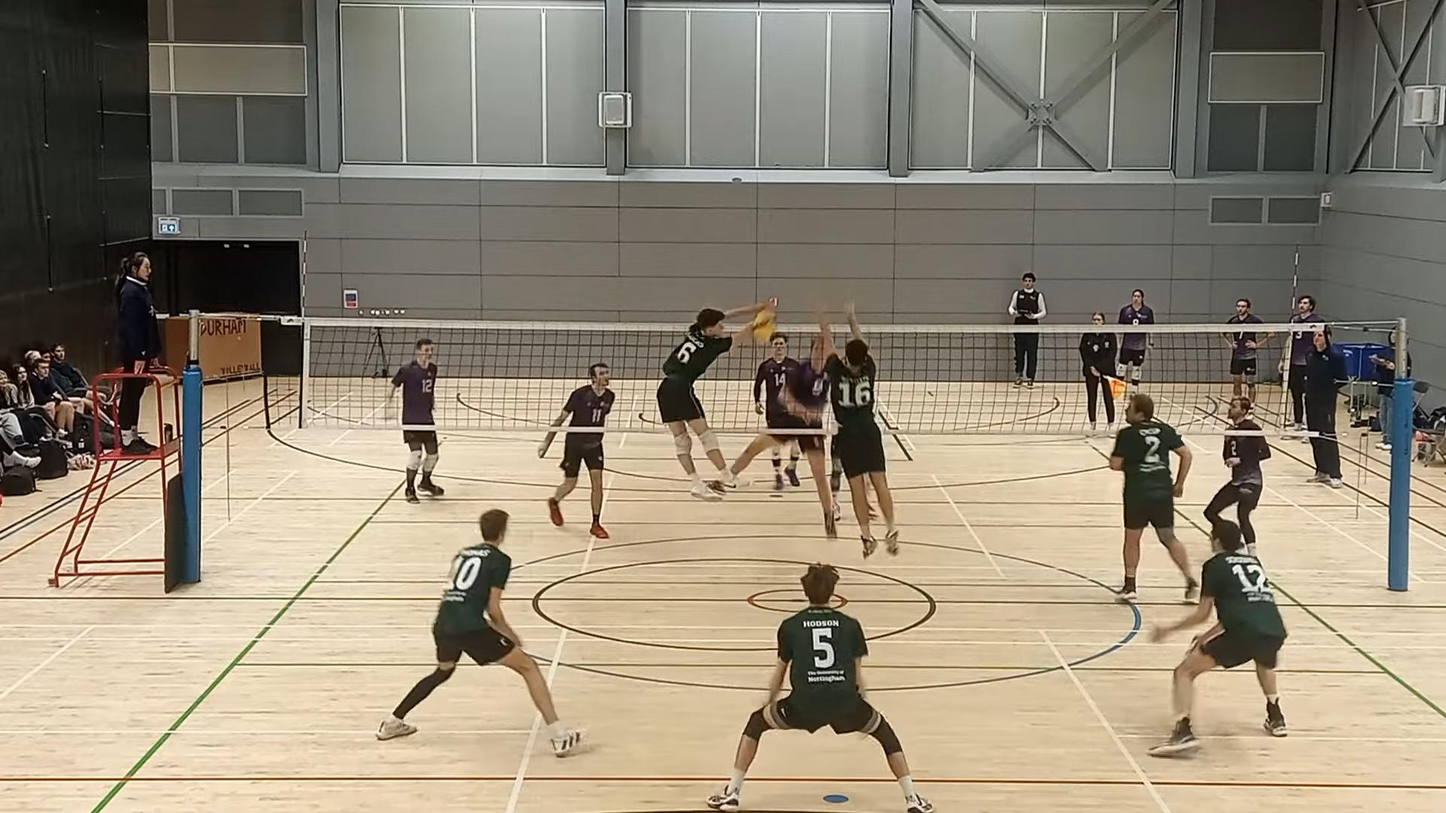attacco: (713, 326, 838, 550)
muro: (653, 300, 778, 501), (814, 301, 904, 561)
